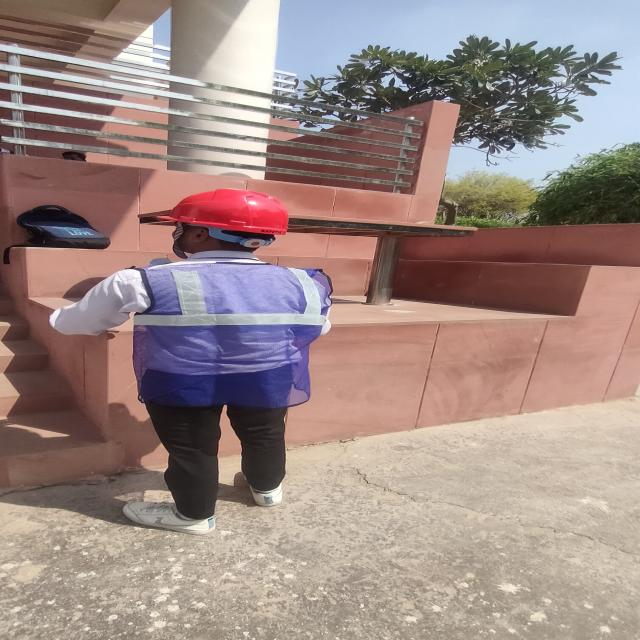safe: (132, 188, 332, 535)
